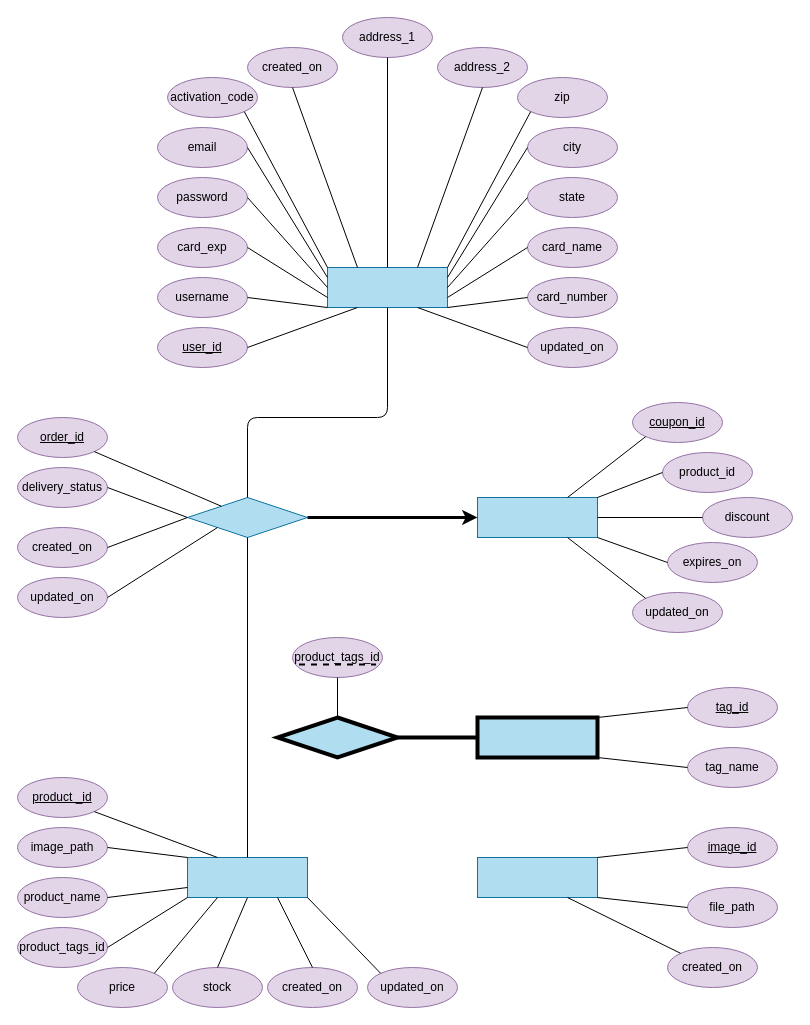
Image size: 810x1025. Some labels were removed from this diagram. Here are the shapes that lost their labels. From the top down, the centre of each, then its label:
point 387,287: USERS
point 247,517: Orders
point 537,517: COUPONS
point 337,737: product_tags
point 537,737: TAGS
point 247,877: PRODUCTS
point 537,877: IMAGES
